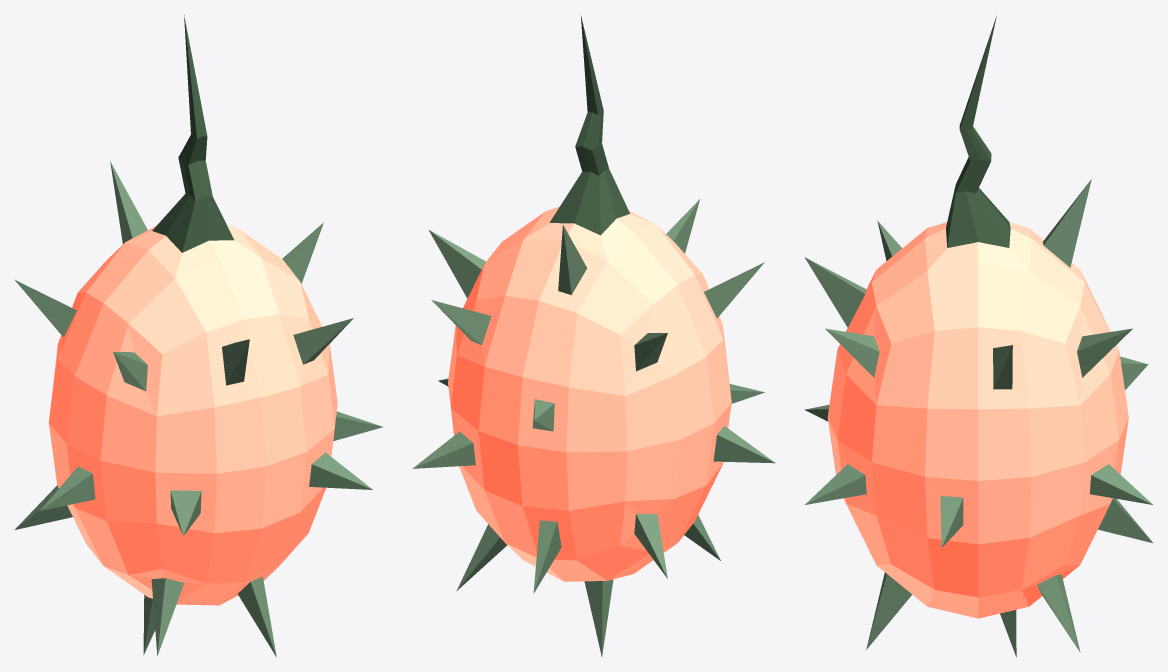
File: ExplosiveFruit.fbx
3 views of the same model, side by side, from view 1: azimuth 30°, elevation 25°; view 2: azimuth 150°, elevation 25°; view 3: azimuth 270°, elevation 25° (orthographic). The views are drawn at different scales.
Parts seen in each view (by area): view 1: Roundcube.001; view 2: Roundcube.001; view 3: Roundcube.001.
Boxes of the visible parts, x1,y1,x2,y2 form: Roundcube.001: [14, 15, 383, 657]; Roundcube.001: [412, 14, 775, 656]; Roundcube.001: [804, 15, 1152, 657].
Size of the model in its own units: 543 by 966 by 464.
